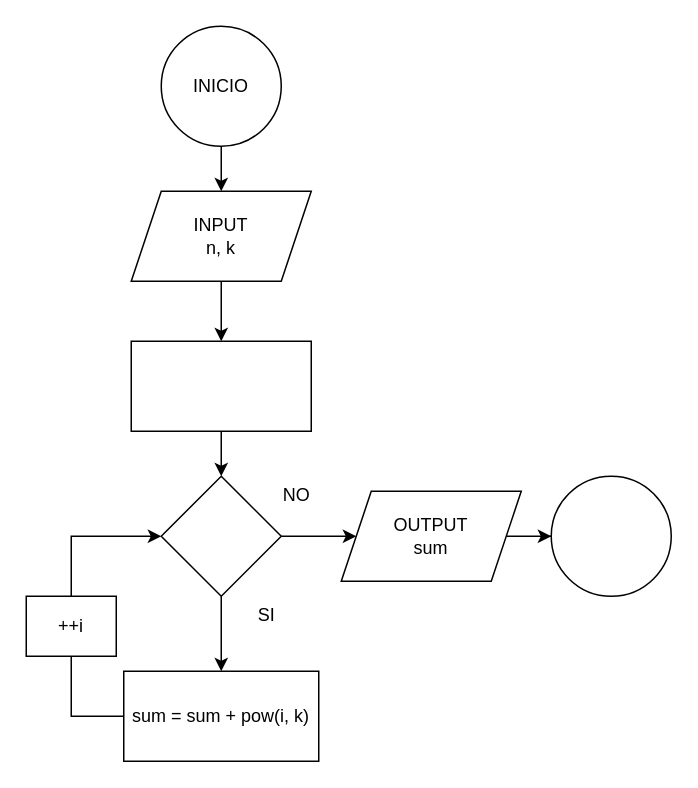
This 698x788 diagram has some shape labels left out. The shapes that lost their labels are listed below. From the top down, each one's box as (x1, y1, x2, y2) in pixels, then its label:
(130, 340, 311, 431): sum = 0 i = 1
(160, 475, 281, 596): n >= i
(550, 475, 671, 596): FIN
